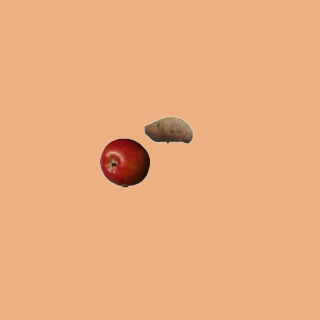Apple Braeburn: (99, 137, 149, 187)
Potato Sweet: (143, 104, 193, 154)
